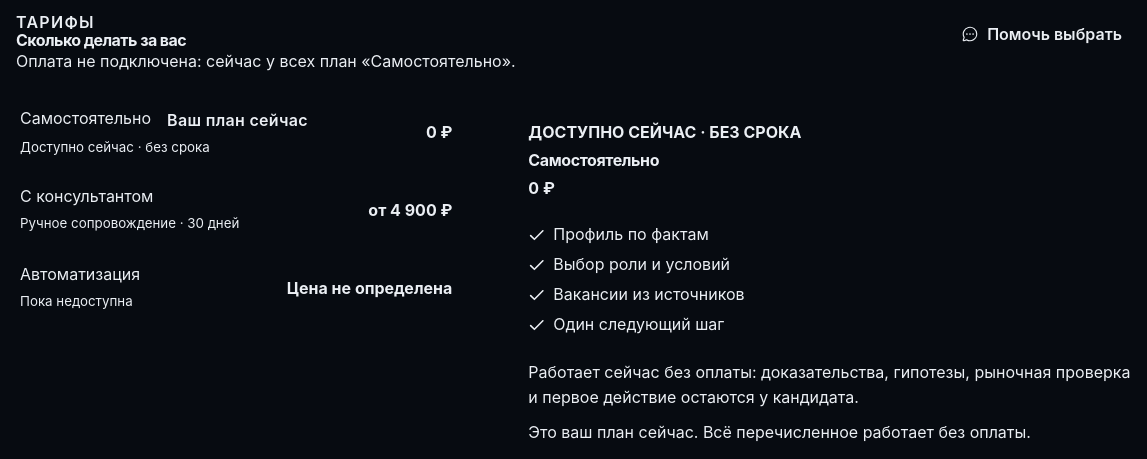
Scenario: CareerTariffsView · заявка на план с консультантом › B336: если у сохранённой заявки нет даты, пишет «Заявка уже отправлена»
The width and height of the screenshot is (1147, 459).
Click the button "С консультантом от 4 900 ₽ Ручное сопровождение · 30 дней" at point(87, 196), box 16,172 -> 456,250
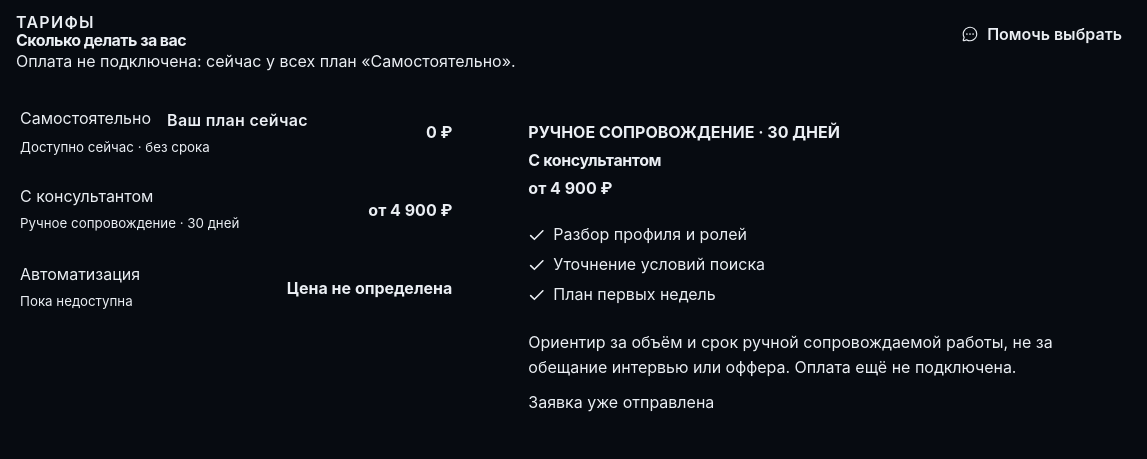
Check: the text "Заявка уже отправлена" is shown, box 528,392 -> 714,412
